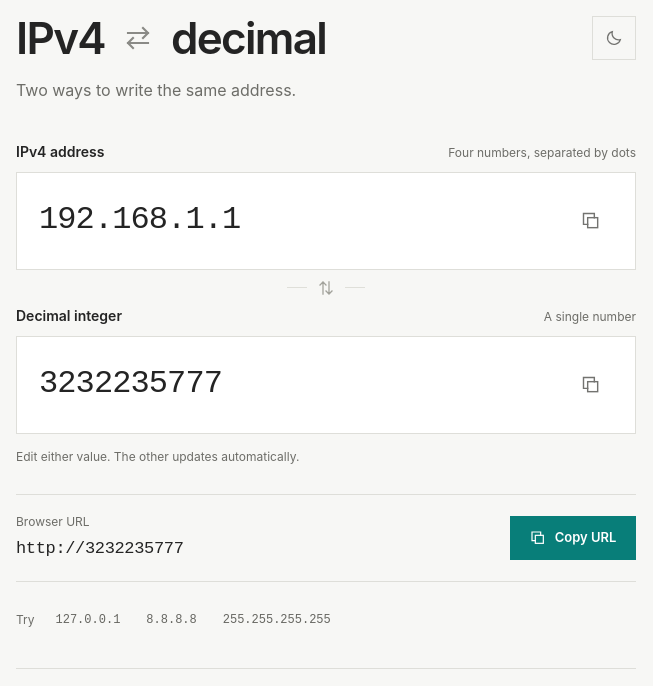
Test case: converts either direction including unsigned boundary values
This screenshot has width=653, height=686.
In the field labelled "IPv4 address": (296, 221) [39,198,553,243], type "127.0.0.1"
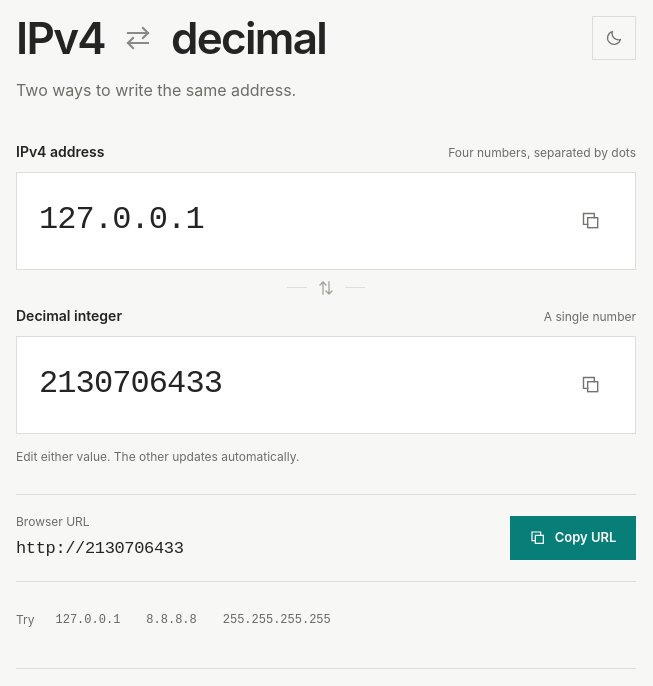
Now the field labelled "Decimal integer" holds "2130706433"
Replace the text in the field labelled "Decimal integer" with "4294967295": (296, 385) [39,362,553,407]
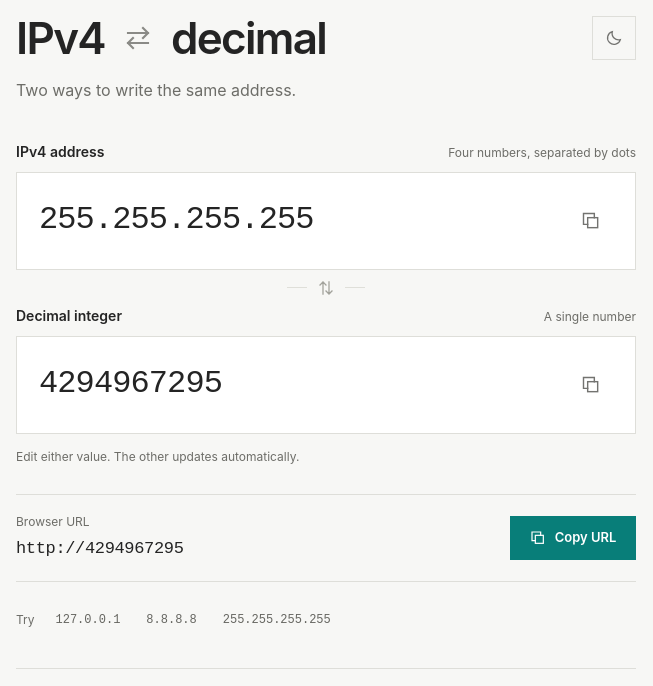
Now the field labelled "IPv4 address" holds "255.255.255.255", box [39,198,553,243]
Replace the text in the field labelled "Decimal integer" with "0": (296, 385) [39,362,553,407]
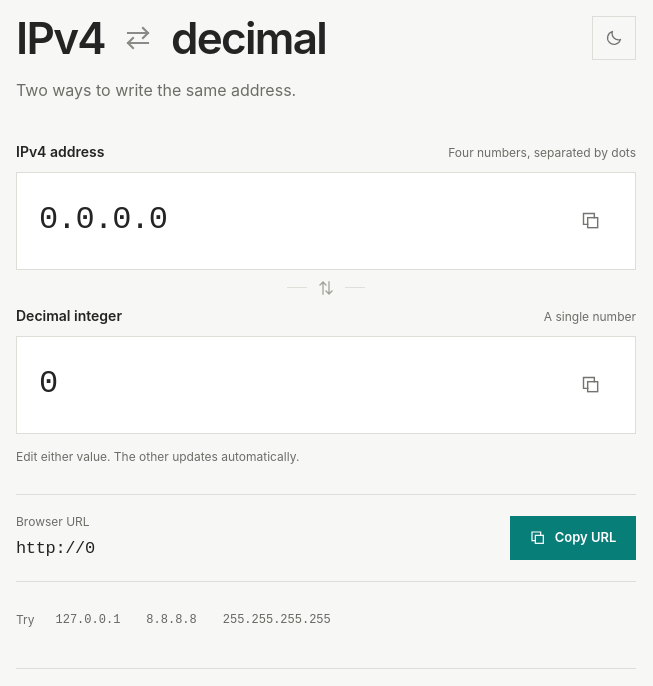
Now the field labelled "IPv4 address" holds "0.0.0.0", box [39,198,553,243]
Now the text "http://0" is shown, box [16,536,95,561]
